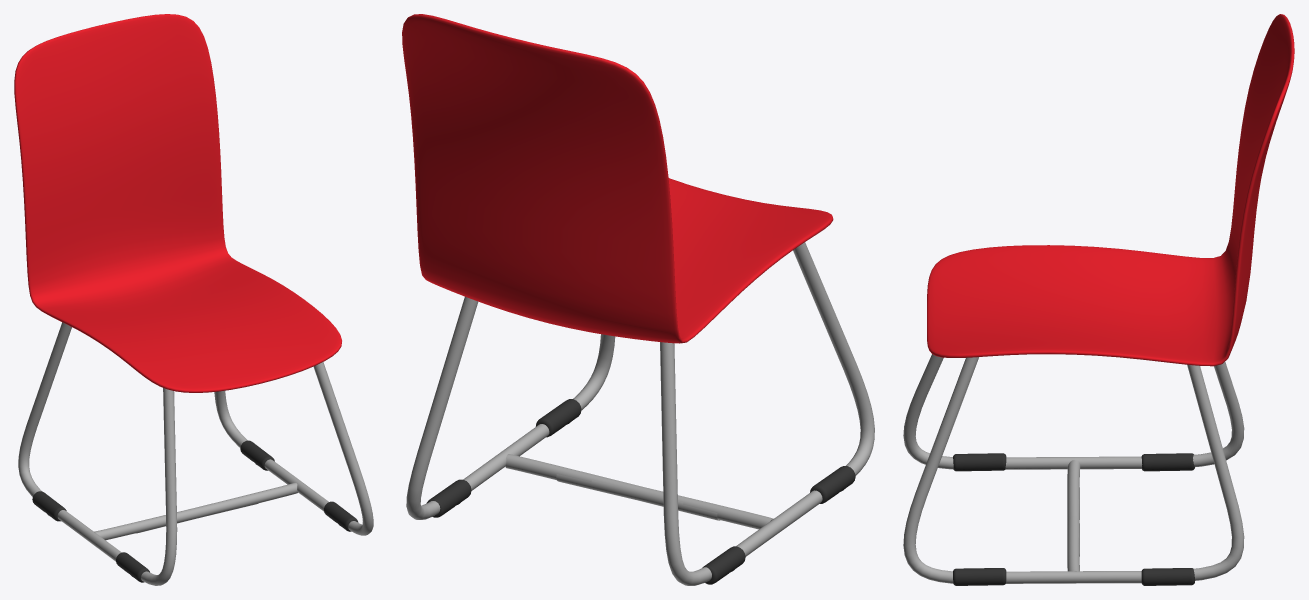
The model's file is Kursi.fbx.
3 views of the same model, side by side, from view 1: azimuth 30°, elevation 25°; view 2: azimuth 150°, elevation 25°; view 3: azimuth 270°, elevation 25° (orthographic). The views are drawn at different scales.
Parts seen in each view (by area): view 1: Plane, BezierCurve, BezierCurve.001, BezierCurve.002; view 2: Plane, BezierCurve, BezierCurve.001, BezierCurve.002; view 3: Plane, BezierCurve, BezierCurve.002, BezierCurve.001.
Part boxes in pixels (left/top/right/bottom): Plane: left=14, top=14, right=341, bottom=392; BezierCurve: left=18, top=322, right=373, bottom=585; BezierCurve.001: left=32, top=491, right=149, bottom=582; BezierCurve.002: left=240, top=440, right=358, bottom=531; Plane: left=402, top=14, right=833, bottom=343; BezierCurve: left=406, top=242, right=874, bottom=585; BezierCurve.001: left=702, top=466, right=855, bottom=584; BezierCurve.002: left=426, top=399, right=581, bottom=517; Plane: left=927, top=14, right=1294, bottom=366; BezierCurve: left=903, top=354, right=1244, bottom=583; BezierCurve.002: left=953, top=568, right=1194, bottom=585; BezierCurve.001: left=953, top=453, right=1194, bottom=471.
Bounding box in the file's own units: 232 × 423 × 315.
